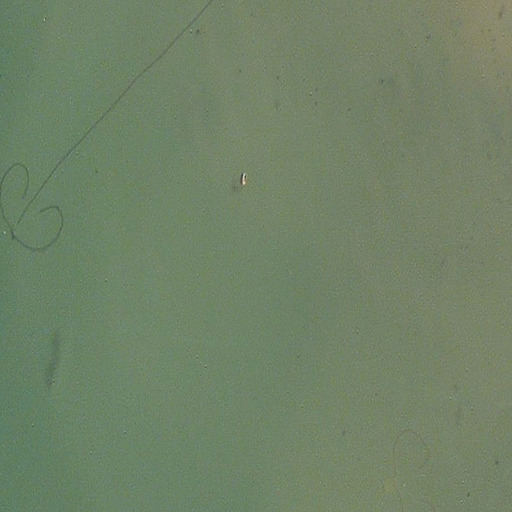ship: (241, 173, 247, 186)
